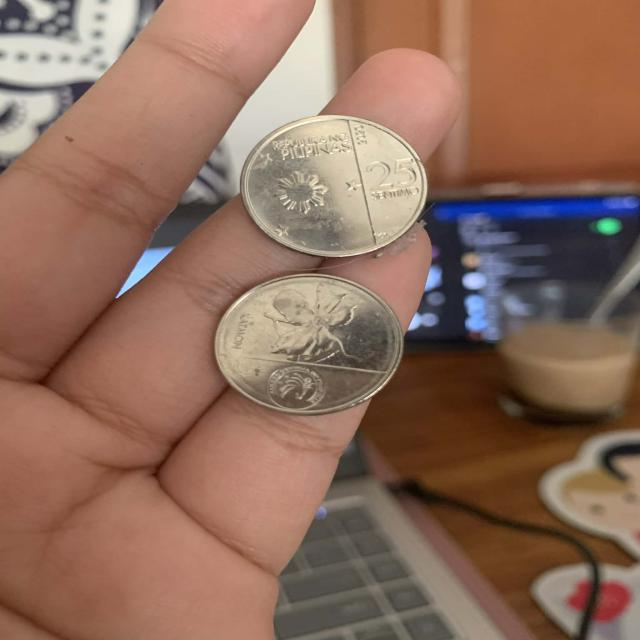25 cents: (210, 268, 416, 422), (234, 106, 434, 260)
